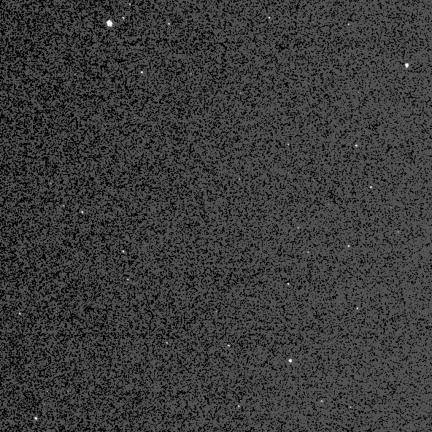blob: (107, 20, 112, 26), (405, 63, 409, 68), (289, 359, 293, 363), (35, 417, 38, 421), (122, 250, 125, 254), (228, 345, 231, 348), (19, 313, 22, 316), (141, 71, 144, 74), (370, 186, 373, 189), (81, 211, 84, 214), (288, 283, 291, 286), (321, 400, 324, 403), (355, 145, 358, 148), (348, 245, 351, 248), (123, 17, 125, 20), (166, 342, 168, 345), (357, 308, 359, 310)
